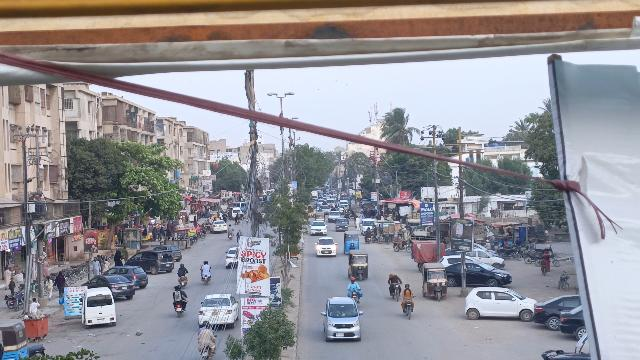Bike: (401, 295, 416, 320), (199, 341, 213, 359), (173, 300, 187, 317), (390, 282, 402, 301), (348, 287, 360, 304), (178, 274, 188, 289), (201, 271, 211, 286)
Car: (464, 285, 536, 321), (319, 294, 364, 342), (443, 260, 512, 287), (533, 294, 580, 330), (199, 293, 240, 327), (82, 274, 135, 300), (125, 249, 175, 274), (104, 264, 149, 287), (314, 236, 338, 258), (308, 220, 329, 236)
Person: (197, 321, 214, 343), (55, 270, 66, 298), (401, 283, 416, 300), (172, 286, 186, 303), (45, 275, 54, 298), (30, 296, 40, 316), (91, 256, 100, 278), (348, 277, 361, 292), (387, 273, 402, 285), (177, 263, 188, 276), (201, 260, 211, 274)
Rickshaw: (0, 323, 30, 360), (422, 261, 449, 301), (348, 249, 370, 281), (343, 231, 360, 255)
Van: (82, 286, 117, 327)
